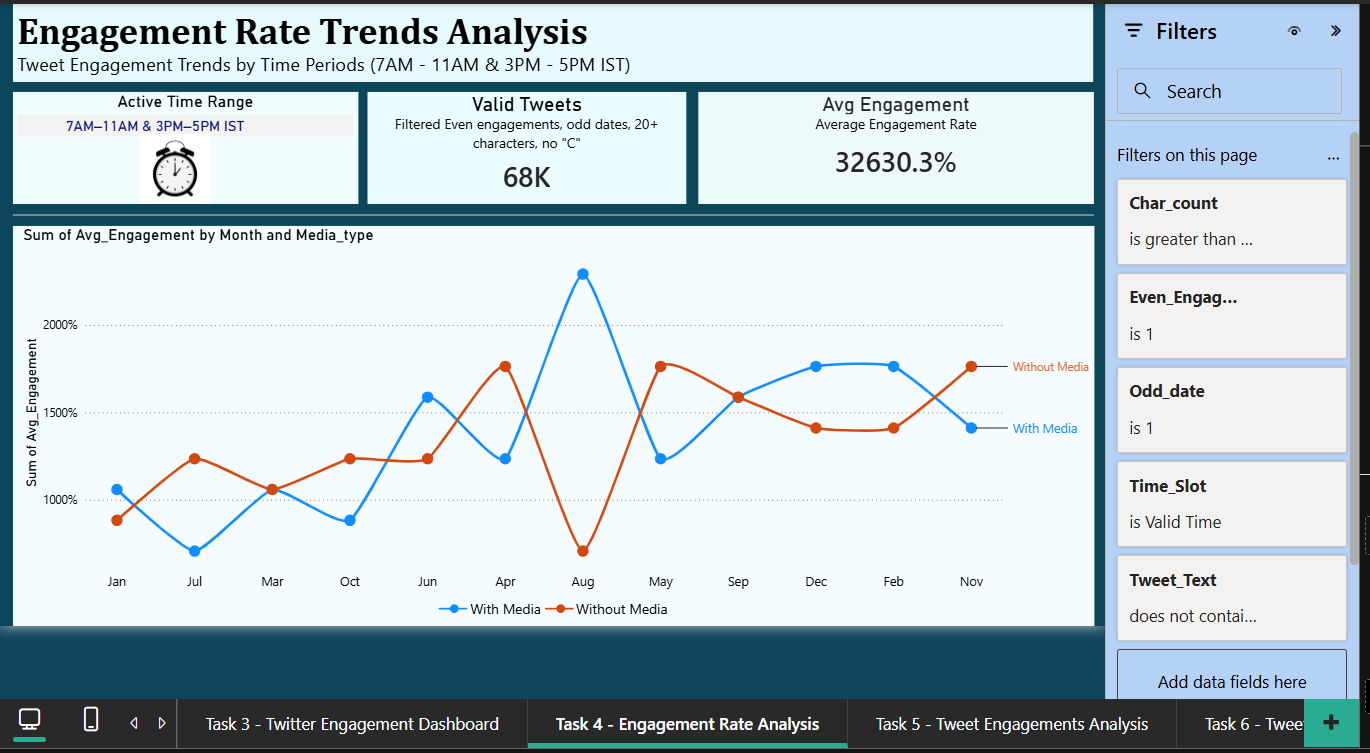

What the dashboard file says about the page in this screenshot:
{"tool":"powerbi","page":{"name":"Task 4 - Engagement Rate Analysis","canvas":[1280,720],"ordinal":3},"visuals":[{"type":"textbox","box":[16.2,0,1250.3,90.6],"z":0},{"type":"cardVisual","title":"Active Time Range","fields":{"Rows":["twitter_clean_sorted_2023_2024.Active Time Range"]},"box":[16.2,101.9,399.5,129.4],"z":1000},{"type":"cardVisual","title":"Valid Tweets","fields":{"Data":["Sum(twitter_clean_sorted_2023_2024.Valid_Tweets)"]},"box":[427,101.9,368.8,129.4],"z":2000},{"type":"image","box":[132.6,150.4,142.3,80.9],"z":3000},{"type":"cardVisual","title":"Avg Engagement","fields":{"Data":["Sum(twitter_clean_sorted_2023_2024.Avg_Engagement)"]},"box":[808.7,101.9,457.7,129.4],"z":4000},{"type":"shape","box":[16.6,233.4,1251.2,23.2],"z":5000},{"type":"lineChart","fields":{"Category":["twitter_clean_sorted_2023_2024.Month"],"Y":["Sum(twitter_clean_sorted_2023_2024.Avg_Engagement)"],"Series":["twitter_clean_sorted_2023_2024.Media_type"]},"box":[16.2,256.8,1251.9,463.6],"z":6000}]}

Visuals, with their boxes on the page's 1280x720 design canvas (x1, y1, x2, y2). These are canvas units, not pixel positions in the 1370x753 screenshot, which may show the page scaled, cropped or inside an application window:
textbox: bbox(16, 0, 1266, 91)
"Active Time Range" cardVisual: bbox(16, 102, 416, 231)
"Valid Tweets" cardVisual: bbox(427, 102, 796, 231)
image: bbox(133, 150, 275, 231)
"Avg Engagement" cardVisual: bbox(809, 102, 1266, 231)
shape: bbox(17, 233, 1268, 257)
lineChart - twitter_clean_sorted_2023_2024.Month x Sum(twitter_clean_sorted_2023_2024.Avg_Engagement): bbox(16, 257, 1268, 720)
